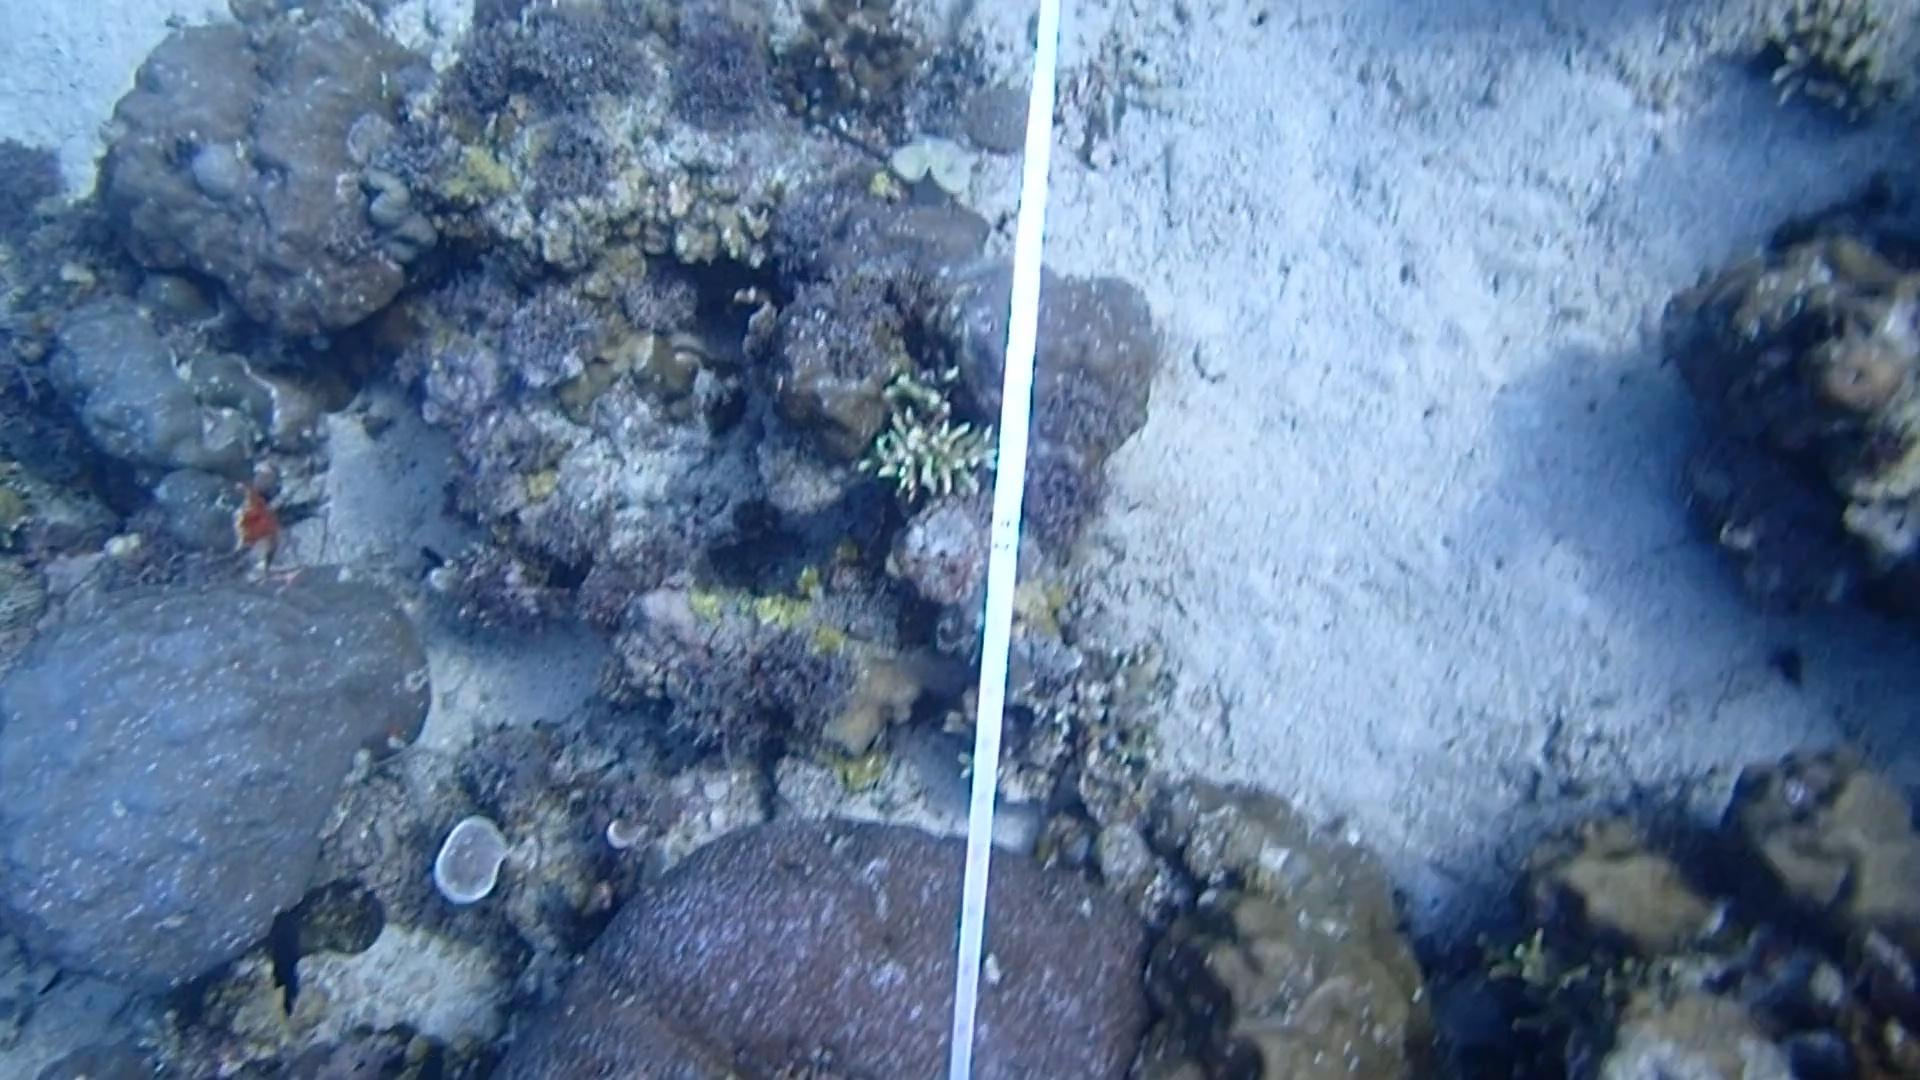Dark Fish: (258, 899, 314, 1011)
